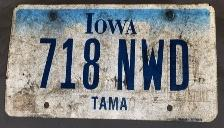1: (57, 37, 79, 90)
7: (33, 37, 58, 90)
8: (80, 36, 102, 90)
D: (169, 37, 190, 94)
N: (116, 37, 139, 93)
W: (139, 37, 166, 92)
